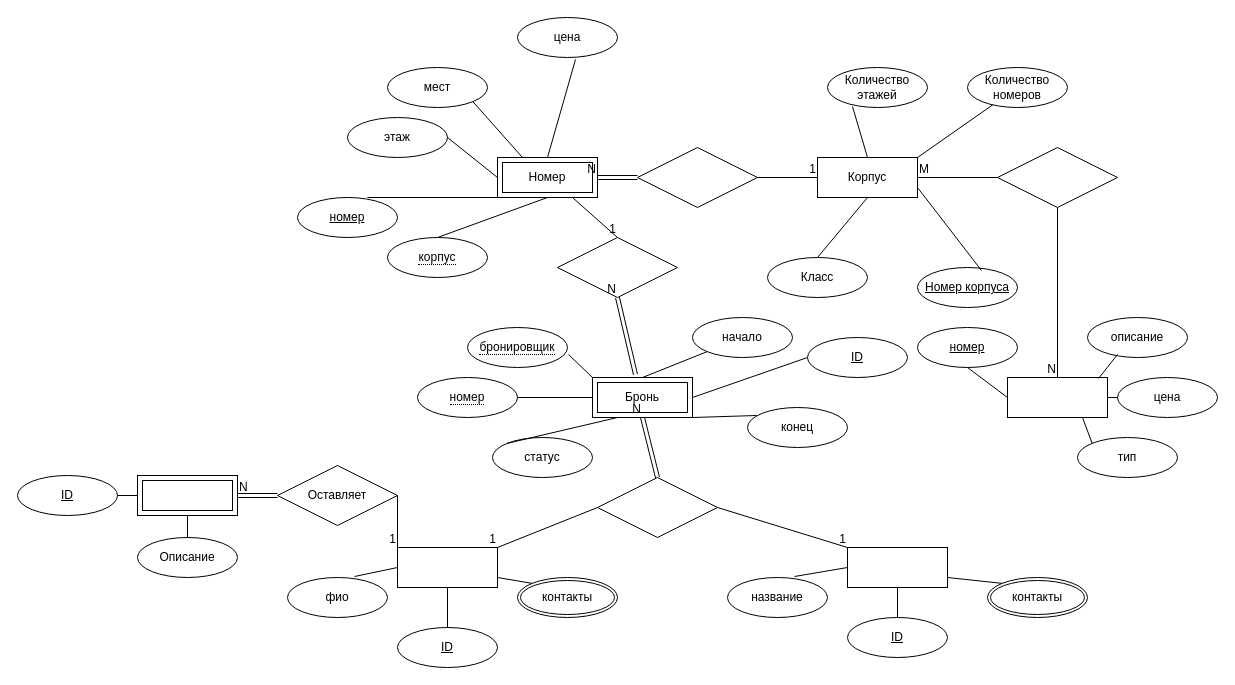
This 1235x685 diagram has some shape labels left out. Each missing label, with the box of its shape:
Бронирует: (596, 476, 718, 538)
Включает: (636, 146, 758, 208)
Жалоба: (136, 474, 238, 516)
Занимает: (556, 236, 678, 298)
Клиент: (396, 546, 498, 588)
Организация: (846, 546, 948, 588)
Предоставляет: (996, 146, 1118, 208)
Услуга: (1006, 376, 1108, 418)
